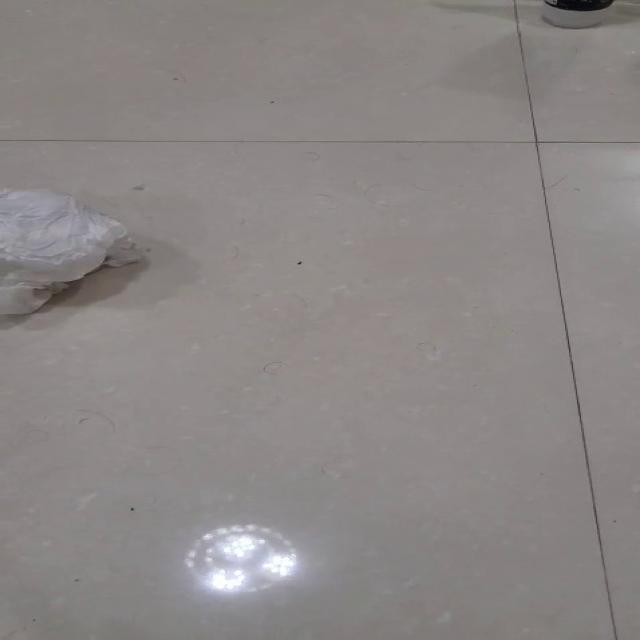plastic: (0, 186, 139, 314)
